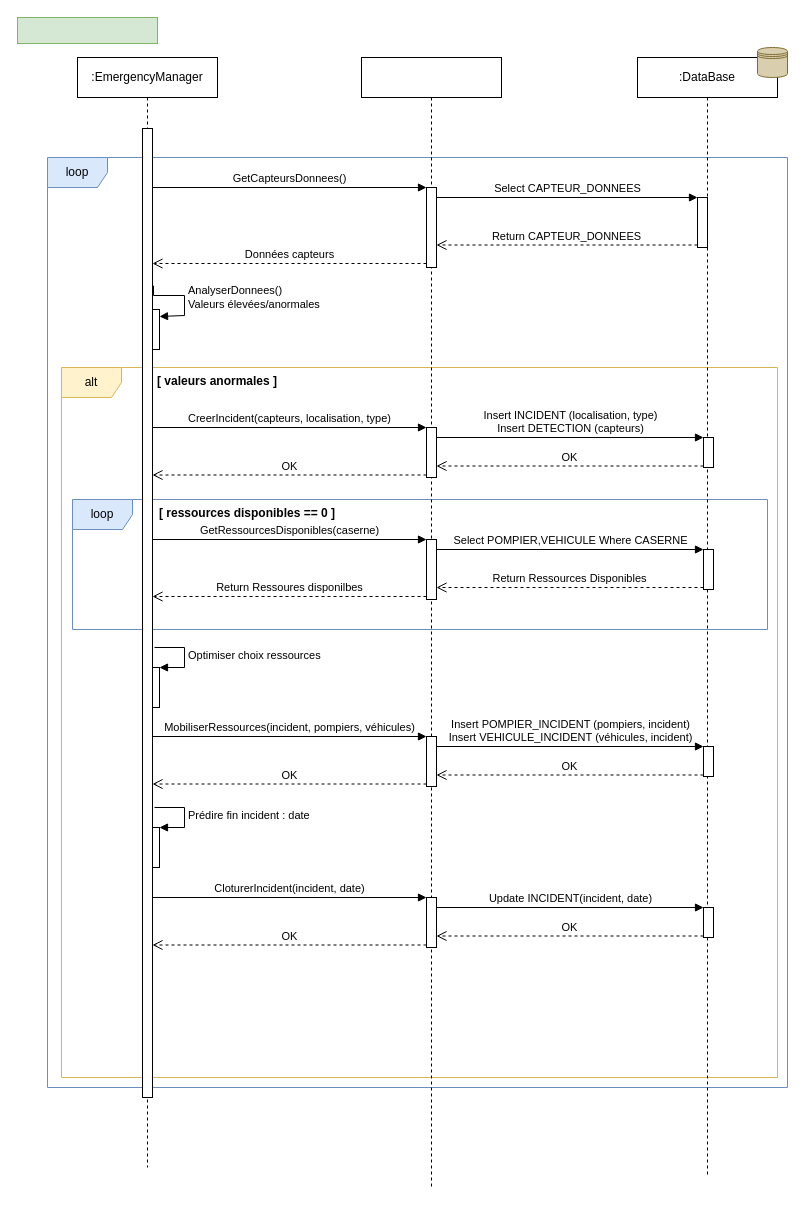
Some shapes in this 805 by 1205 pixel diagram are drawn without their labels. The centre of each missing label's shape, as x and y in pixels:
":WebServer" belongs at point 431,622.
"Gérer un incident" belongs at point 87,30.
